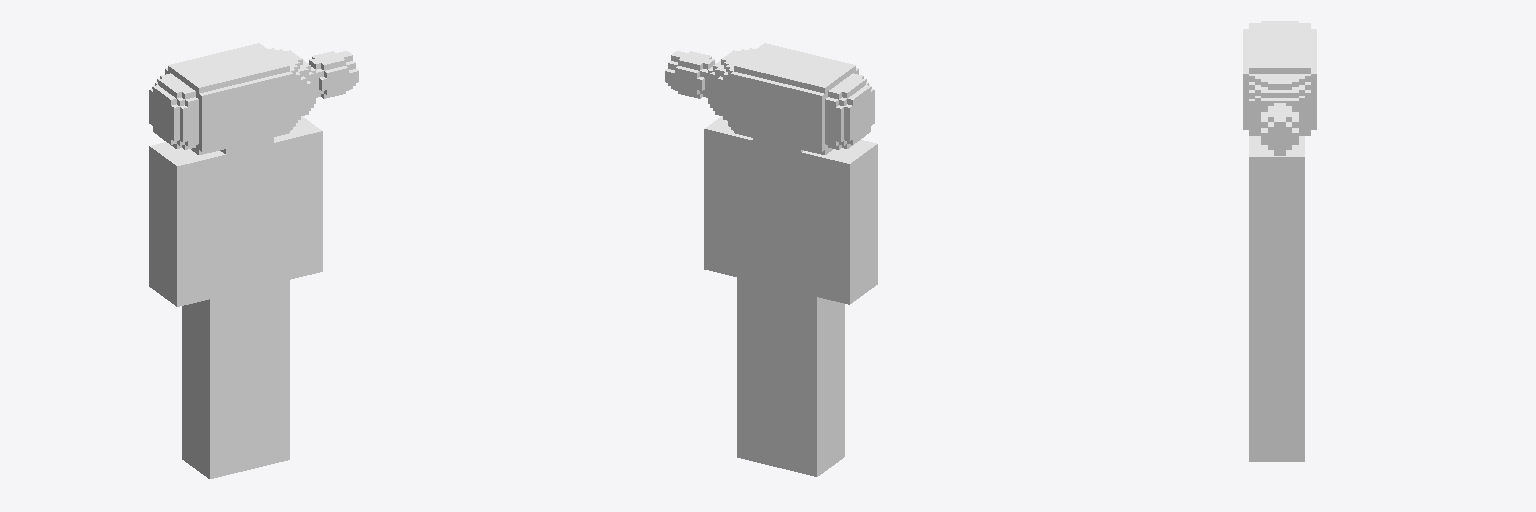
File: ebiman.obj
3 renders of one model, left to right at view 1: azimuth 30°, elevation 25°; view 2: azimuth 150°, elevation 25°; view 3: azimuth 270°, elevation 25°, orthographic.
Parts seen in each view (by area): view 1: object 1; view 2: object 1; view 3: object 1.
Part boxes in pixels (x1,y1,x2,y2): object 1: (149, 43, 358, 478); object 1: (665, 43, 877, 476); object 1: (1243, 21, 1316, 461).
Size of the model in its own units: 3.5 by 7 by 1.2.